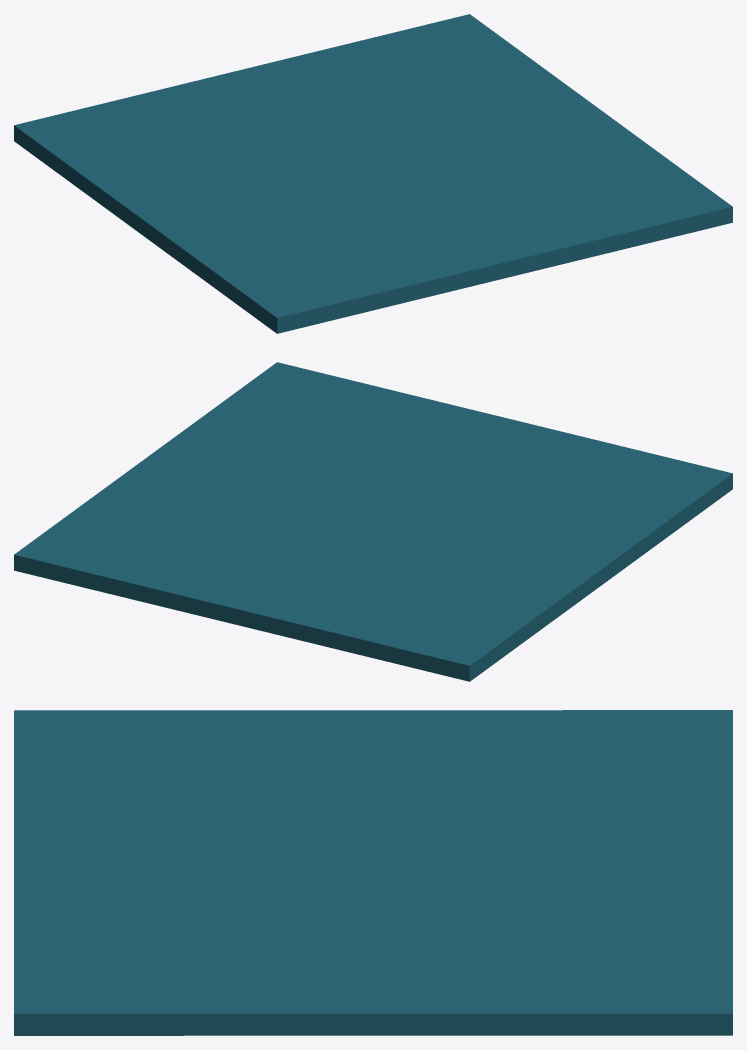
The model's file is traffic_sign_primitive_5.dae.
3 renders of one model, top to bottom at view 1: azimuth 30°, elevation 25°; view 2: azimuth 150°, elevation 25°; view 3: azimuth 270°, elevation 25°, orthographic. The views are drawn at different scales.
Visible parts, largest first — view 1: coordinate_2_material0, coordinate_13_material0, coordinate_3_material0; view 2: coordinate_2_material0, coordinate_1_material0, coordinate_3_material0; view 3: coordinate_2_material0, coordinate_14_material0.
Boxes of the visible parts, x1=… form: coordinate_2_material0: x1=14, y1=14, x2=732, y2=317; coordinate_13_material0: x1=277, y1=207, x2=732, y2=333; coordinate_3_material0: x1=14, y1=125, x2=277, y2=333; coordinate_2_material0: x1=14, y1=362, x2=732, y2=665; coordinate_1_material0: x1=14, y1=554, x2=469, y2=681; coordinate_3_material0: x1=469, y1=473, x2=732, y2=681; coordinate_2_material0: x1=14, y1=710, x2=732, y2=1013; coordinate_14_material0: x1=14, y1=1014, x2=732, y2=1035.
Bounding box in the file's own units: 4.72 × 0.1585 × 4.72.
